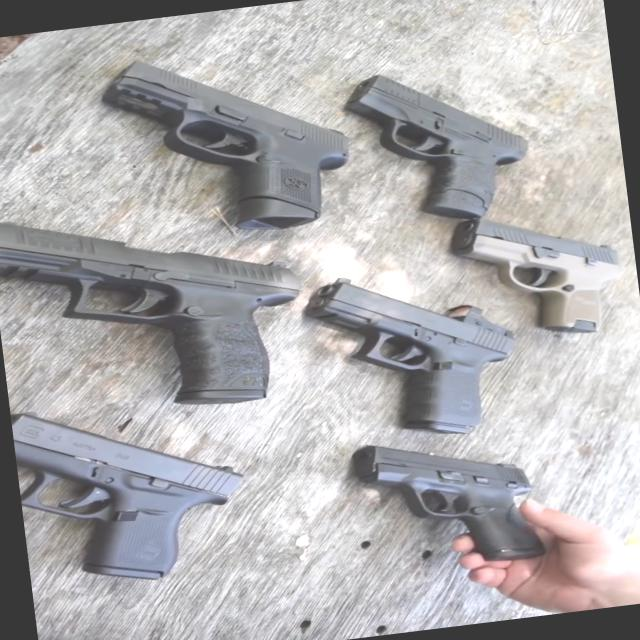handgun: (0, 177, 333, 454), (89, 9, 372, 249), (8, 369, 262, 621), (407, 168, 639, 364), (332, 56, 546, 248), (327, 255, 536, 448), (350, 414, 564, 589)
